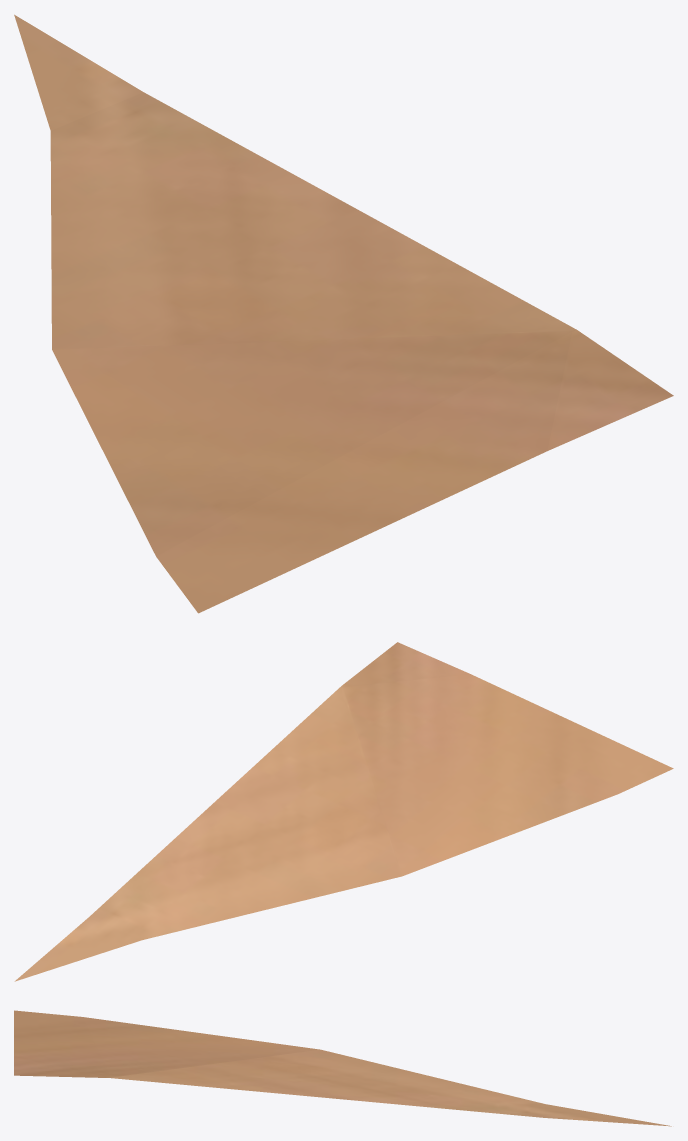
3 views of the same model, one above another, from view 1: azimuth 30°, elevation 25°; view 2: azimuth 150°, elevation 25°; view 3: azimuth 270°, elevation 25° (orthographic). The views are drawn at different scales.
Bounding box in the file's own units: 0.1332 × 0.0272 × 0.32.
1 material, 1 textured.
